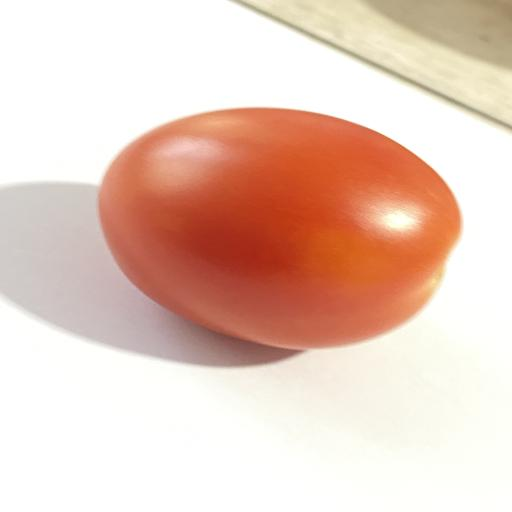ripe: (99, 108, 461, 349)
